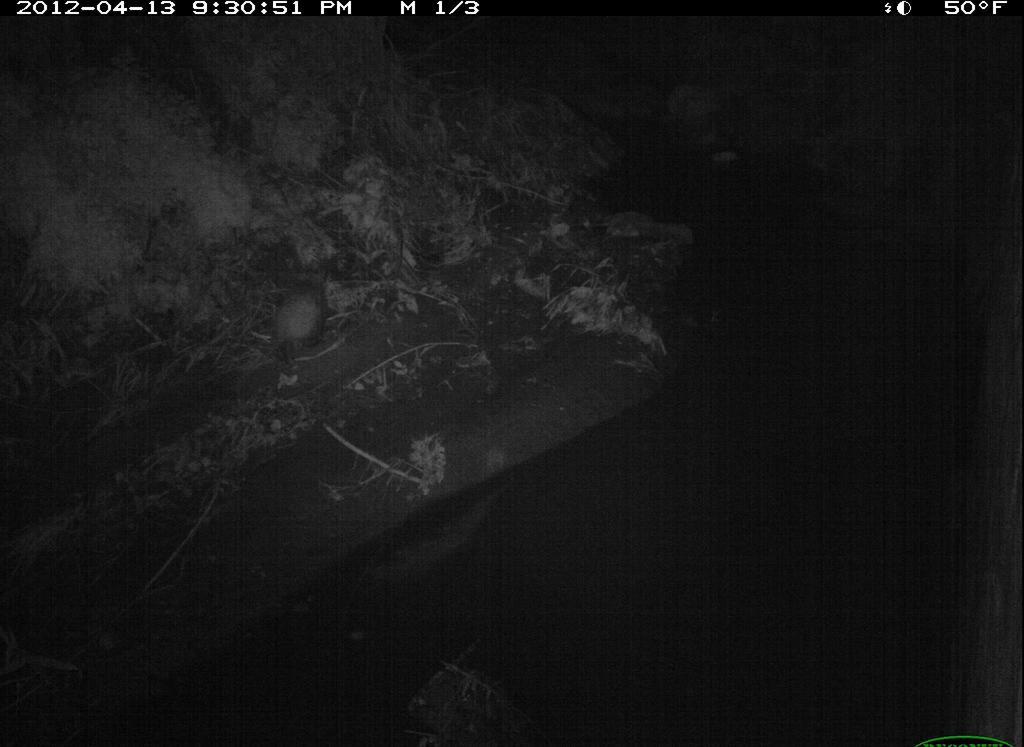opossum: (268, 267, 335, 372)
